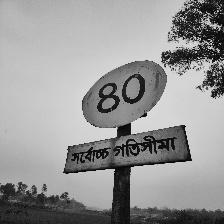Speed-limit: (66, 59, 189, 174)
